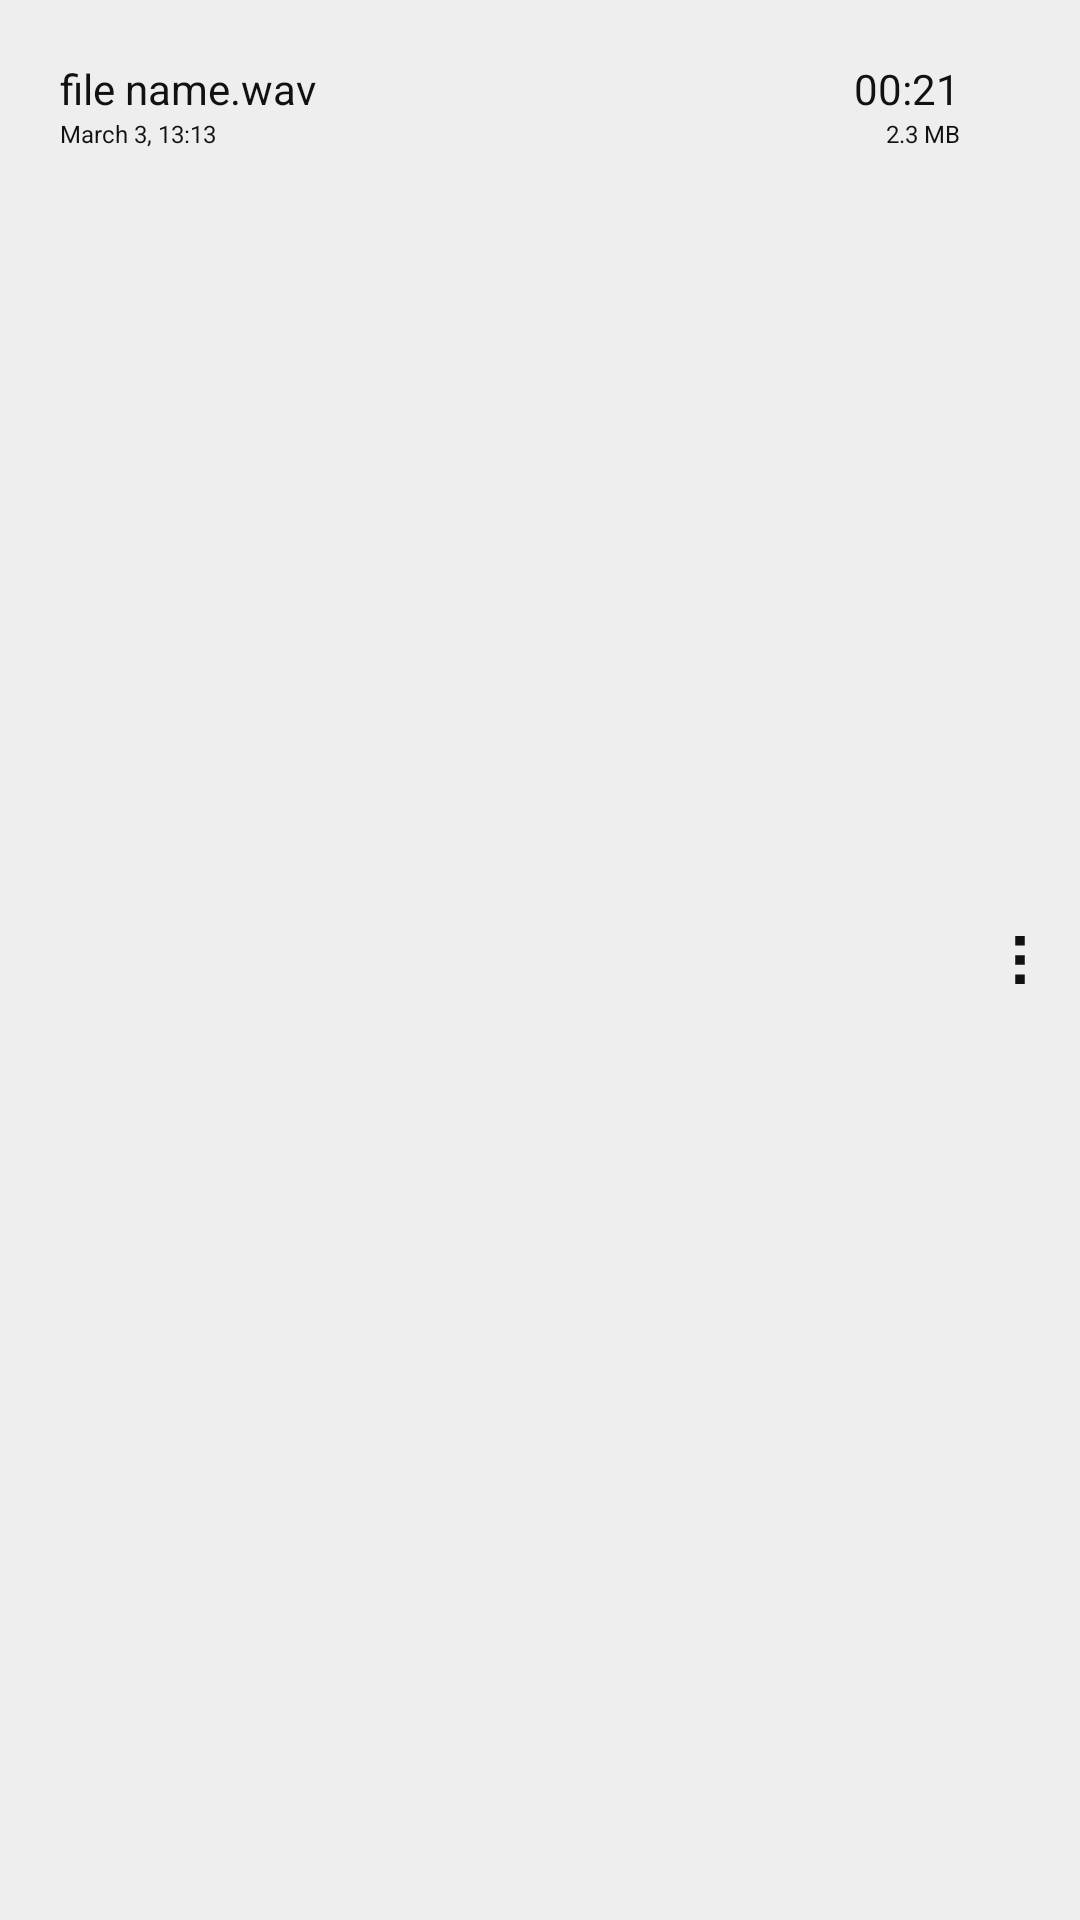

Named icons in this screenshot (1080px x 1920px) and their bounding boxes, (x1, y1, x2, y2):
dots: (1015, 936, 1025, 984)
